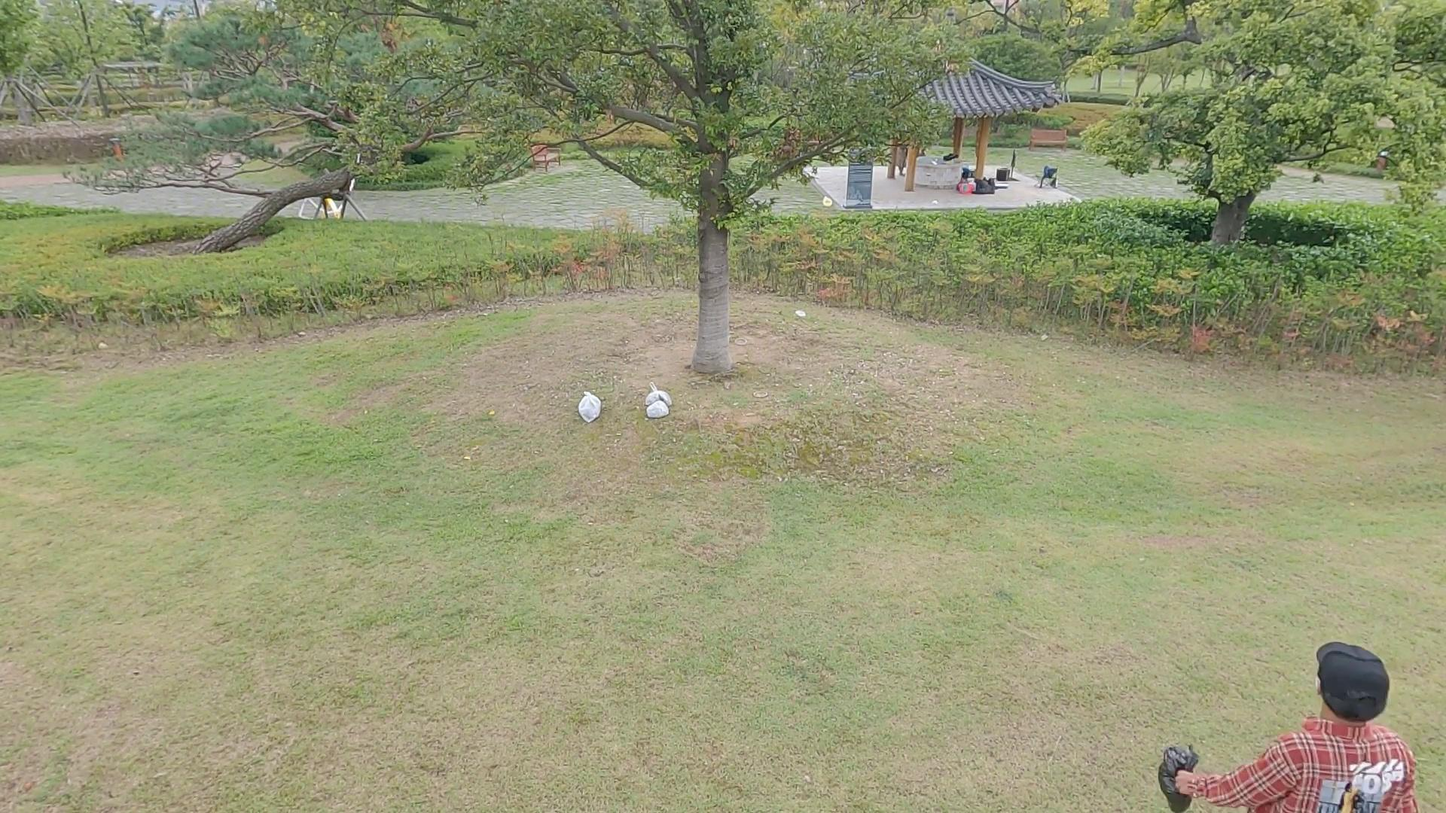trash: (647, 378, 674, 406), (580, 393, 601, 423), (647, 398, 670, 422), (795, 307, 809, 321)
